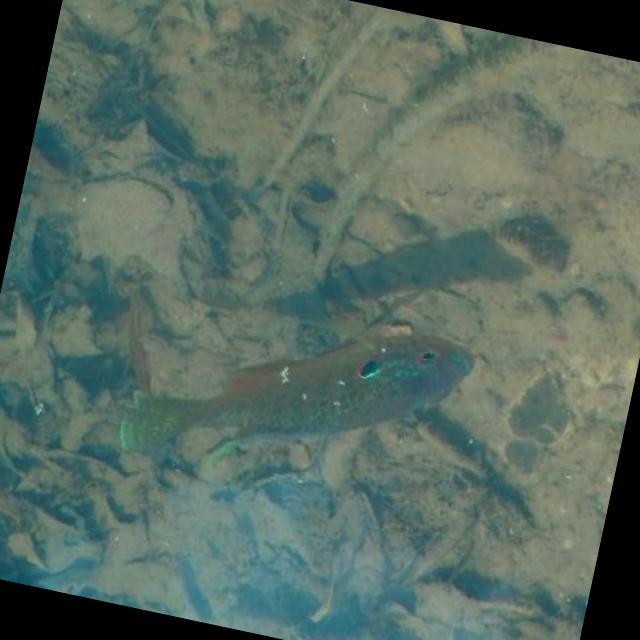Gunes Levregi: (95, 254, 482, 530)
